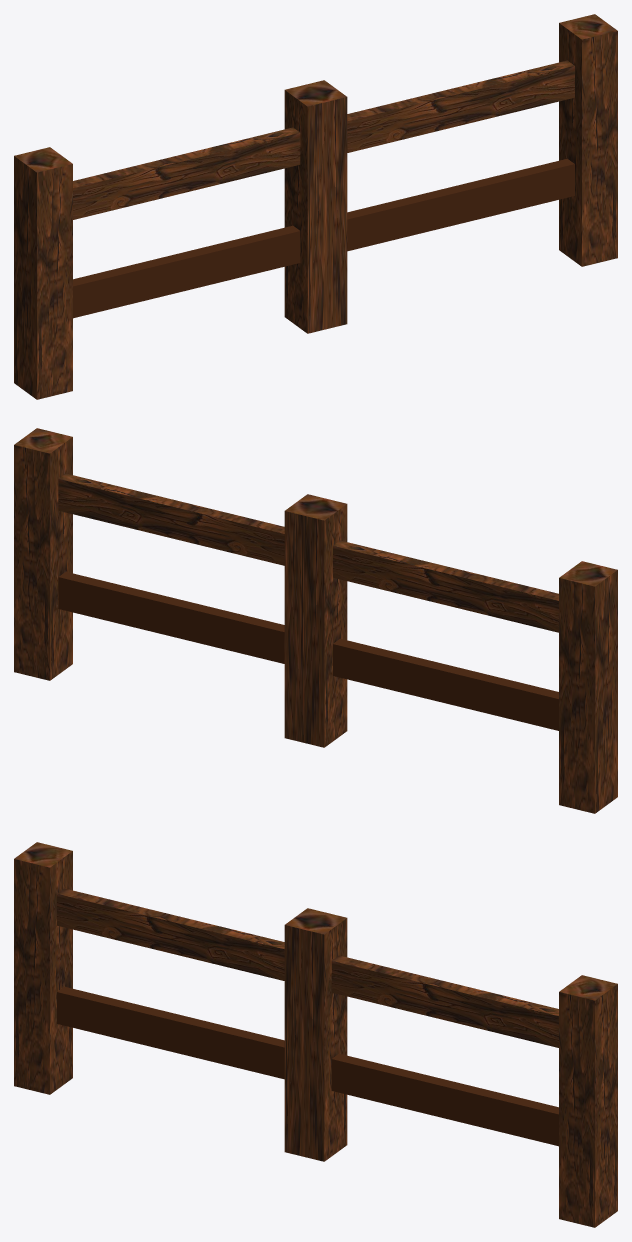
The model's file is barriere.fbx.
3 renders of one model, top to bottom at view 1: azimuth 30°, elevation 25°; view 2: azimuth 150°, elevation 25°; view 3: azimuth 330°, elevation 25°, orthographic.
Parts seen in each view (by area): view 1: Cube; view 2: Cube; view 3: Cube.
Boxes of the visible parts, <box> form: Cube: <box>14,14,617,399</box>; Cube: <box>14,428,617,813</box>; Cube: <box>14,842,617,1227</box>.
Size of the model in its own units: 1461 by 546 by 100.
1 material, 1 textured.
